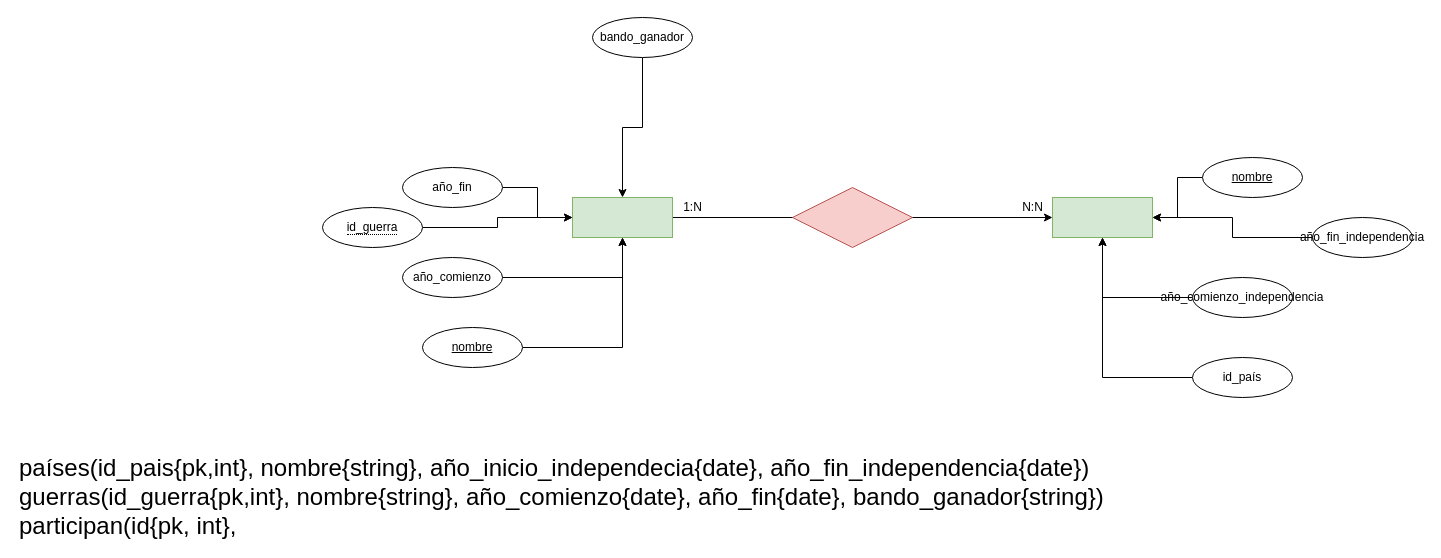
The diagram is 1441 pixels wide and 558 high, and some of its shapes have lost their labels. The centre of each missing label's shape, as x and y in pixels:
"guerras" goes at (x=622, y=217).
"paises" goes at (x=1102, y=217).
"participar" goes at (x=852, y=217).
